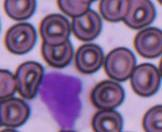M: (37, 68, 91, 130)
